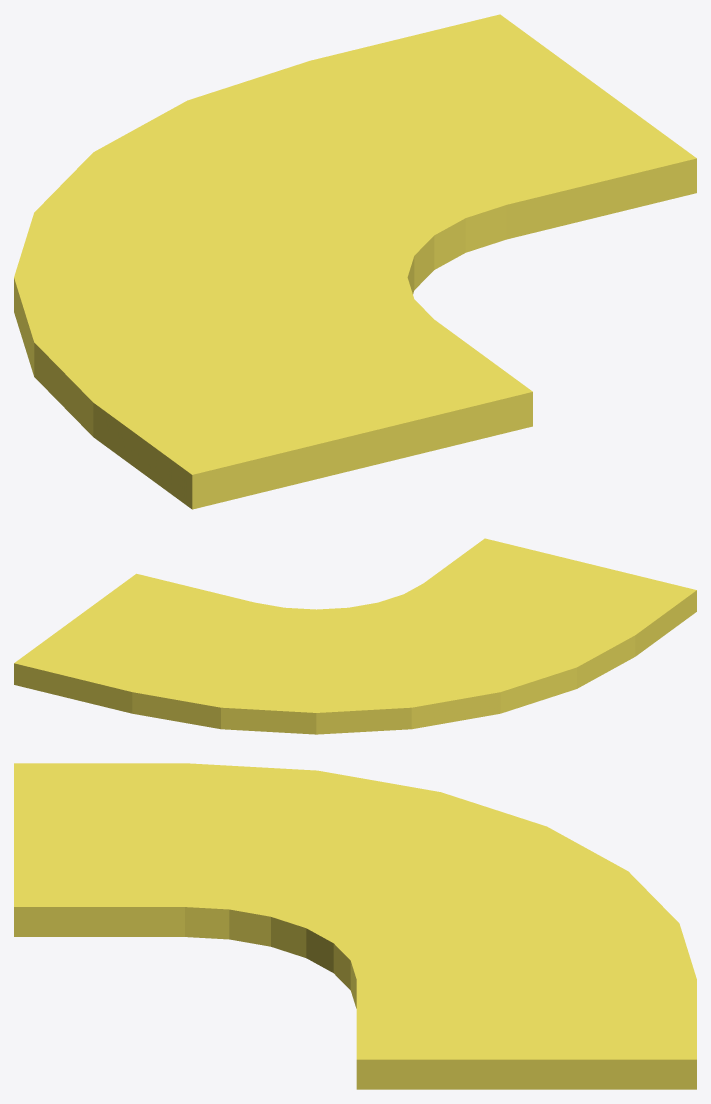
Rendered from NewRoad1.fbx.
3 renders of one model, top to bottom at view 1: azimuth 30°, elevation 25°; view 2: azimuth 150°, elevation 25°; view 3: azimuth 270°, elevation 25°, orthographic. The views are drawn at different scales.
Visible parts, largest first — view 1: новаядорога; view 2: новаядорога; view 3: новаядорога.
Boxes of the visible parts, left/top/right/bottom form: новаядорога: left=14, top=14, right=696, bottom=509; новаядорога: left=14, top=538, right=696, bottom=734; новаядорога: left=14, top=763, right=696, bottom=1089.
Bounding box in the file's own units: 409 × 19.29 × 398.
